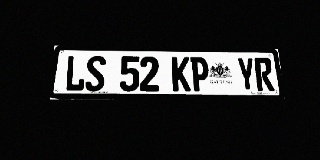2: (140, 56, 159, 91)
5: (120, 56, 139, 91)
K: (172, 57, 191, 91)
L: (64, 55, 86, 91)
P: (190, 57, 210, 91)
R: (254, 58, 275, 91)
S: (85, 56, 106, 91)
Y: (236, 57, 257, 91)
